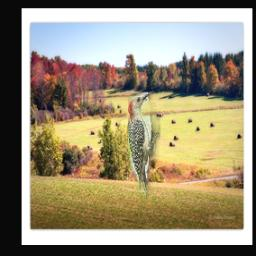Woodpecker: (128, 93, 160, 200)
